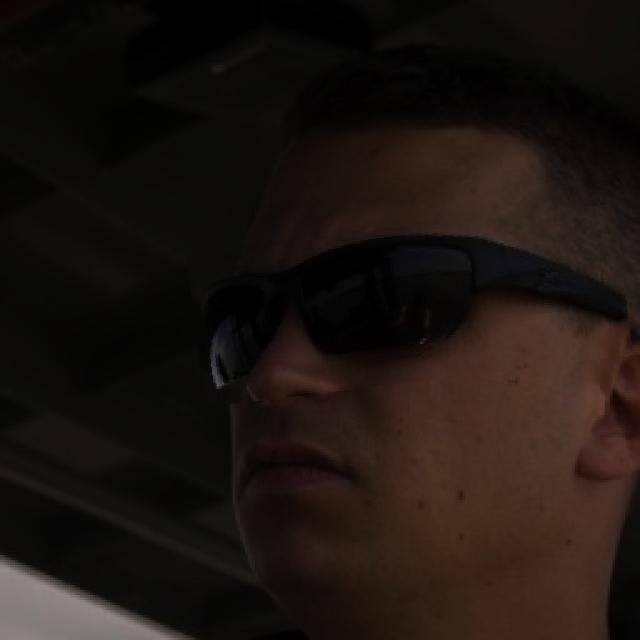glasses: (189, 216, 629, 395)
